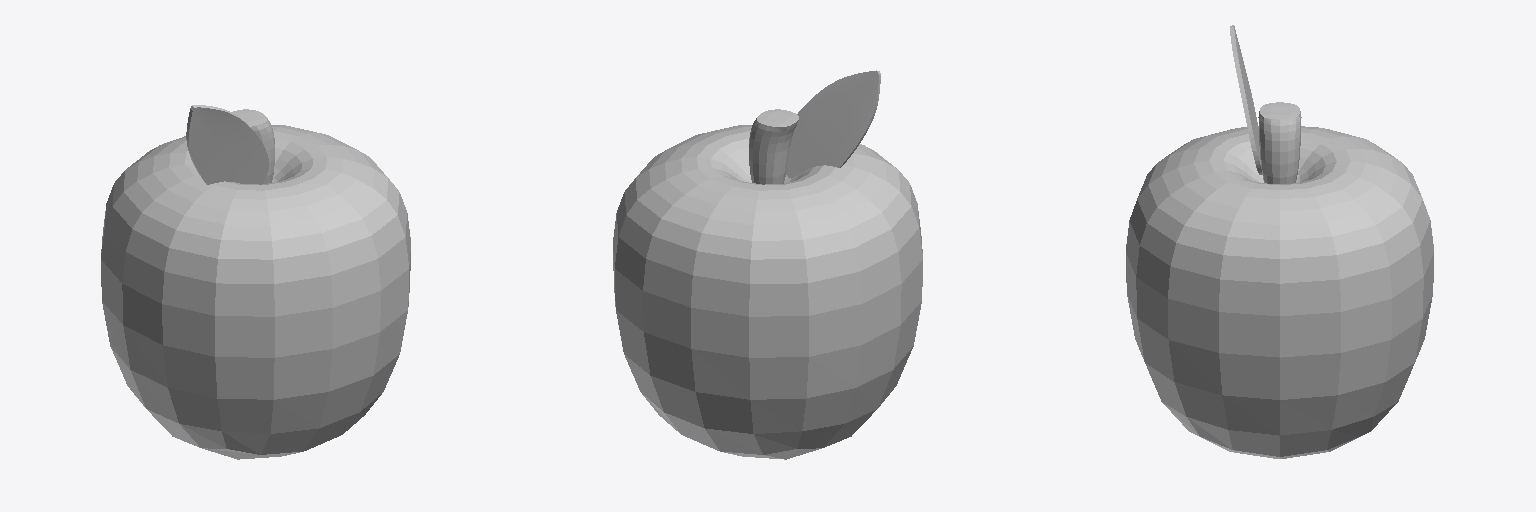
File: apple_lp.obj
3 renders of one model, left to right at view 1: azimuth 30°, elevation 25°; view 2: azimuth 150°, elevation 25°; view 3: azimuth 270°, elevation 25°, orthographic.
Visible parts, largest first — view 1: Cube, Plane, Cube.001; view 2: Cube, Plane, Cube.001; view 3: Cube, Cube.001, Plane.
Boxes of the visible parts, x1=… form: Cube: x1=101, y1=125, x2=410, y2=459; Plane: x1=186, y1=105, x2=268, y2=184; Cube.001: x1=232, y1=109, x2=274, y2=184; Cube: x1=613, y1=125, x2=922, y2=459; Plane: x1=786, y1=70, x2=880, y2=177; Cube.001: x1=749, y1=109, x2=798, y2=184; Cube: x1=1126, y1=126, x2=1433, y2=458; Cube.001: x1=1258, y1=102, x2=1301, y2=183; Plane: x1=1230, y1=25, x2=1261, y2=174.
Size of the model in its own units: 1.7 by 2.29 by 1.7.